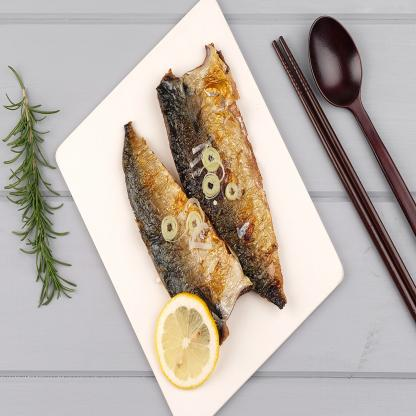Peixe: (125, 65, 290, 296)
